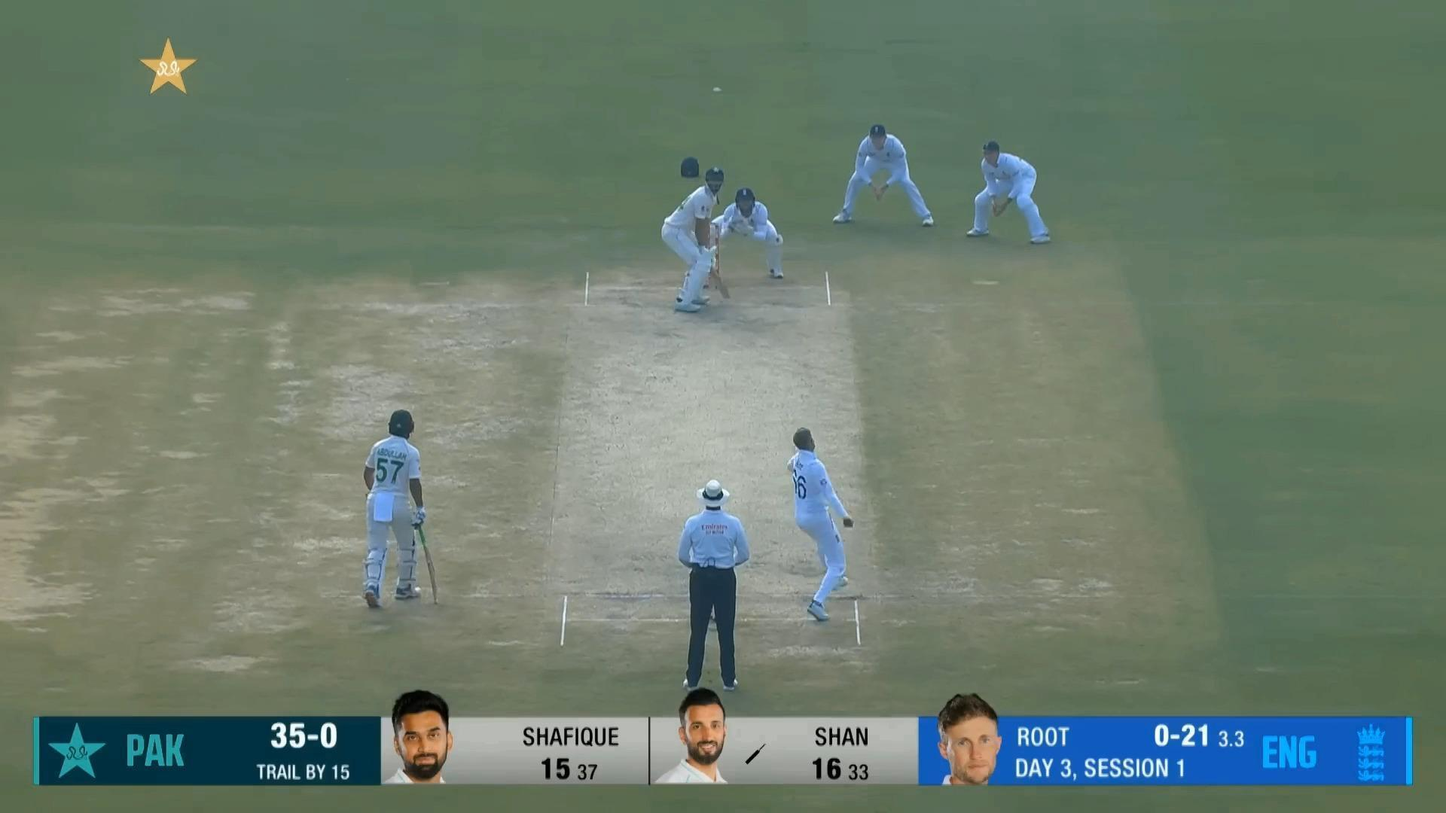BM 1: (661, 167, 731, 313)
BO: (786, 425, 855, 622)
